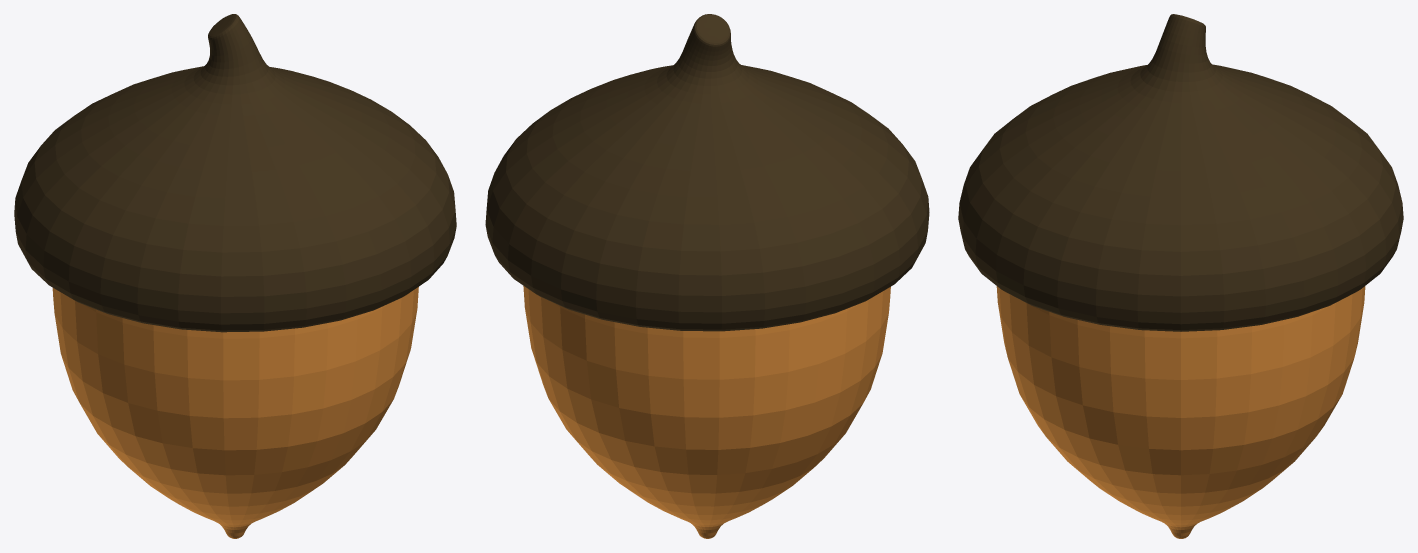
Rendered from acorn.fbx.
3 renders of one model, left to right at view 1: azimuth 30°, elevation 25°; view 2: azimuth 150°, elevation 25°; view 3: azimuth 270°, elevation 25°, orthographic.
Parts seen in each view (by area): view 1: Circle; view 2: Circle; view 3: Circle.
Part boxes in pixels (x1,y1,x2,y2): Circle: [14, 14, 456, 538]; Circle: [485, 14, 929, 538]; Circle: [958, 14, 1403, 538].
Bounding box in the file's own units: 200 × 259 × 200.
